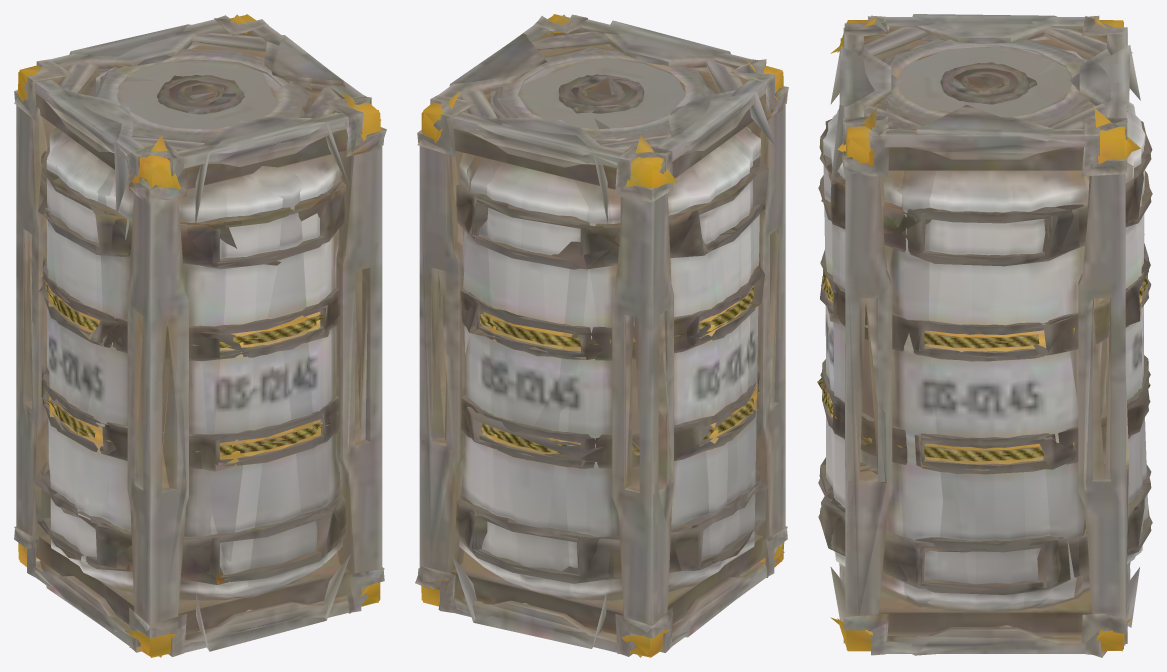
Rendered from sm_cyberbarrels01.glb.
3 views of the same model, side by side, from view 1: azimuth 30°, elevation 25°; view 2: azimuth 150°, elevation 25°; view 3: azimuth 270°, elevation 25° (orthographic). The views are drawn at different scales.
Parts seen in each view (by area): view 1: sm_cyberbarrels01_00; view 2: sm_cyberbarrels01_00; view 3: sm_cyberbarrels01_00.
Boxes of the visible parts, x1,y1,x2,y2 form: sm_cyberbarrels01_00: (14,14,386,657); sm_cyberbarrels01_00: (415,14,788,657); sm_cyberbarrels01_00: (817,14,1152,657).
Size of the model in its own units: 0.5635 by 1.02 by 0.5641.
1 material, 1 textured.
